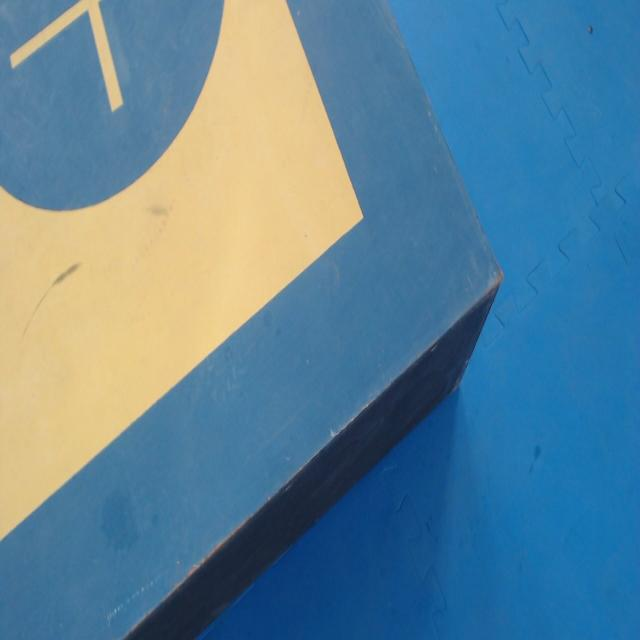base_inicio: (0, 0, 364, 542)
